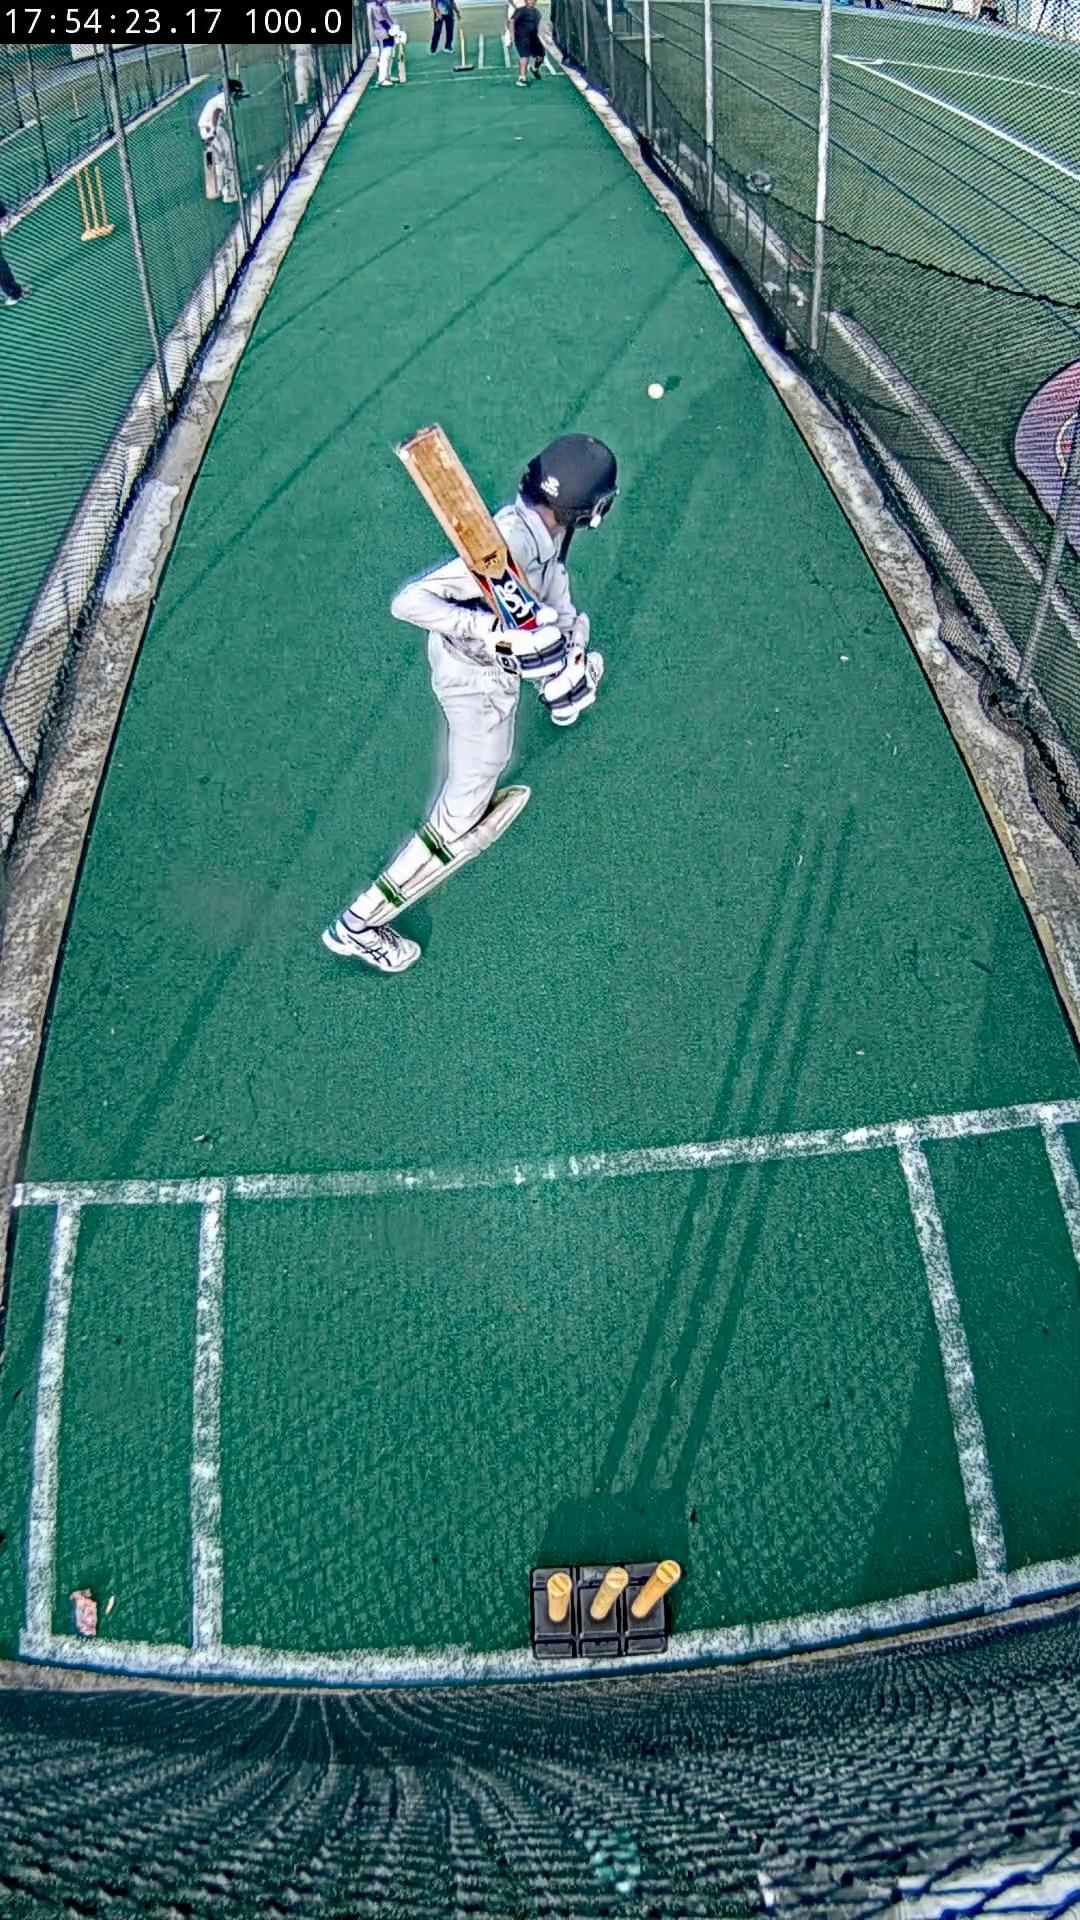ball: (649, 382, 663, 397)
bat: (397, 423, 541, 630)
gloves: (495, 608, 600, 728)
helmet: (521, 435, 618, 529)
pads: (368, 783, 529, 926)
stumps: (529, 1560, 683, 1662)
